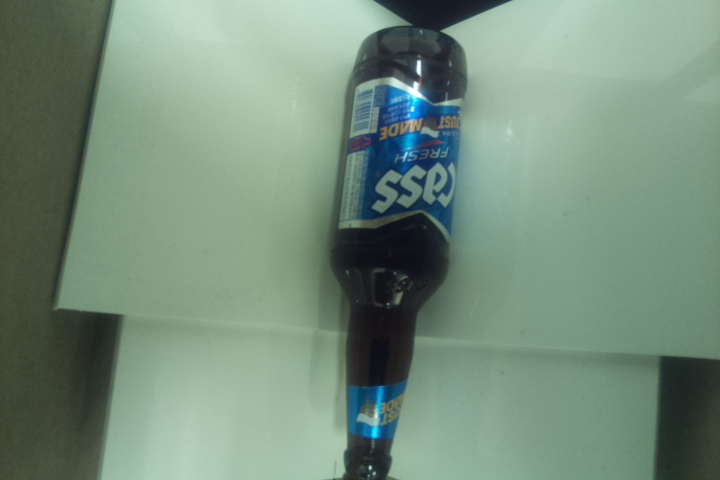makju: (323, 24, 469, 480)
